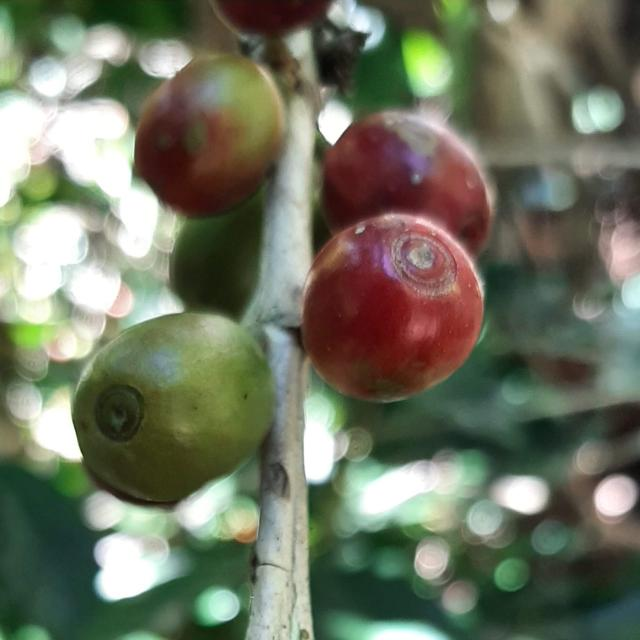green: (72, 313, 274, 503), (169, 188, 264, 320)
red: (302, 213, 484, 402), (324, 110, 494, 253)
yellow: (134, 54, 284, 216)
